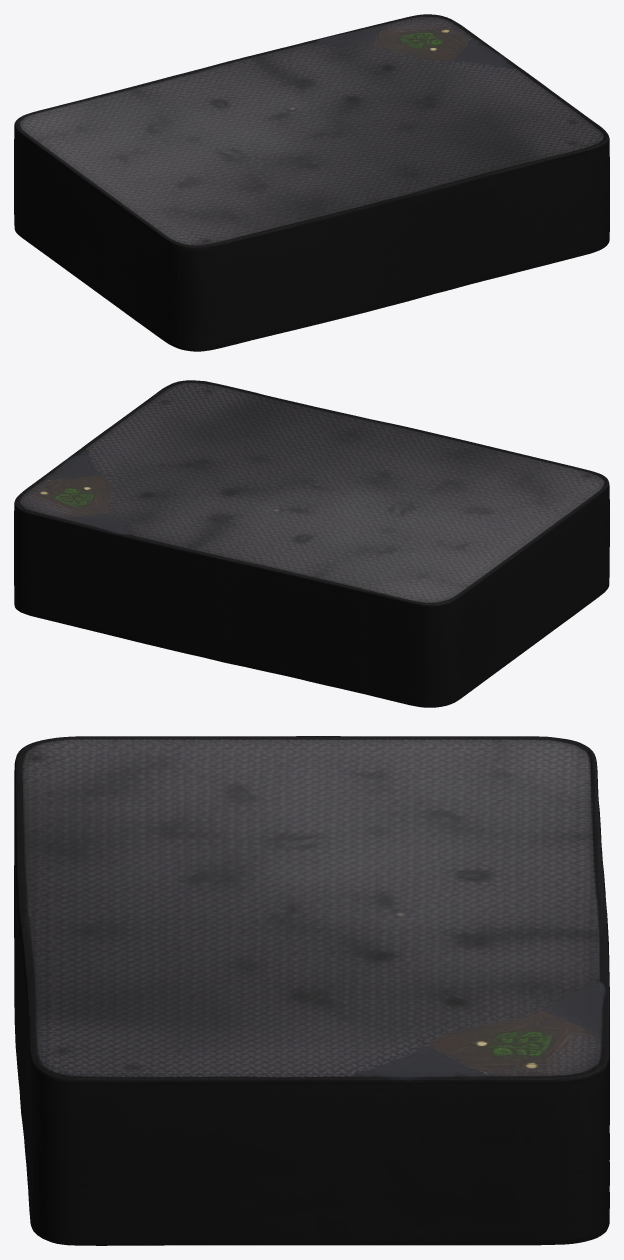
The model's file is 215_budget_double_1_star_1370_my.glb.
3 renders of one model, top to bottom at view 1: azimuth 30°, elevation 25°; view 2: azimuth 150°, elevation 25°; view 3: azimuth 270°, elevation 25°, orthographic. The views are drawn at different scales.
Visible parts, largest first — view 1: world; view 2: world; view 3: world.
Part boxes in pixels (x1,y1,x2,y2): world: (14, 14, 609, 351); world: (14, 380, 609, 707); world: (14, 736, 609, 1245).
Bounding box in the file's own units: 0.9998 × 0.2284 × 0.7311.
Materials: 1 (1 with a texture image).
